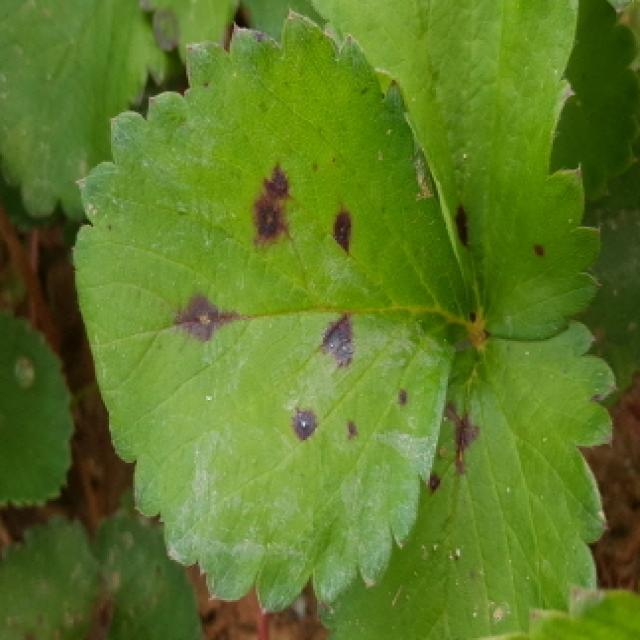Leaf Spot: (73, 6, 472, 619), (310, 0, 605, 343), (317, 322, 618, 640), (0, 519, 104, 640)
